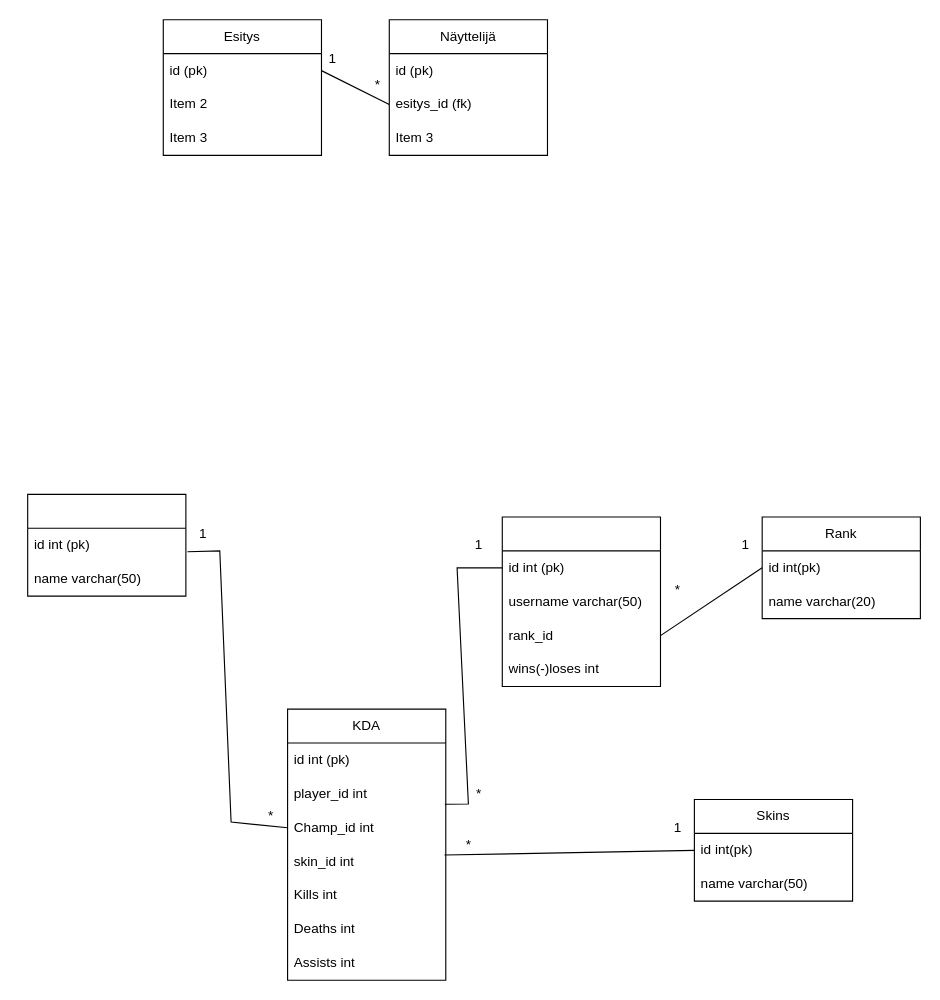
Image size: 940x1000. Some labels were removed from this diagram. Here are the shapes that lost their labels. From the top down, the box of each, then its label:
(27, 493, 186, 596): Champions
(501, 516, 660, 686): Player
